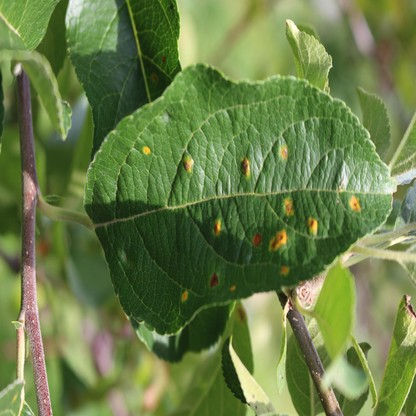rust: (270, 228, 287, 251), (283, 196, 294, 216), (240, 159, 250, 179), (349, 197, 361, 213), (183, 155, 193, 174), (307, 217, 317, 235), (212, 219, 221, 236), (210, 270, 218, 289), (253, 232, 262, 246), (238, 306, 245, 322), (181, 290, 188, 303), (142, 146, 151, 155), (280, 266, 289, 275), (280, 146, 287, 156), (229, 285, 235, 290)
